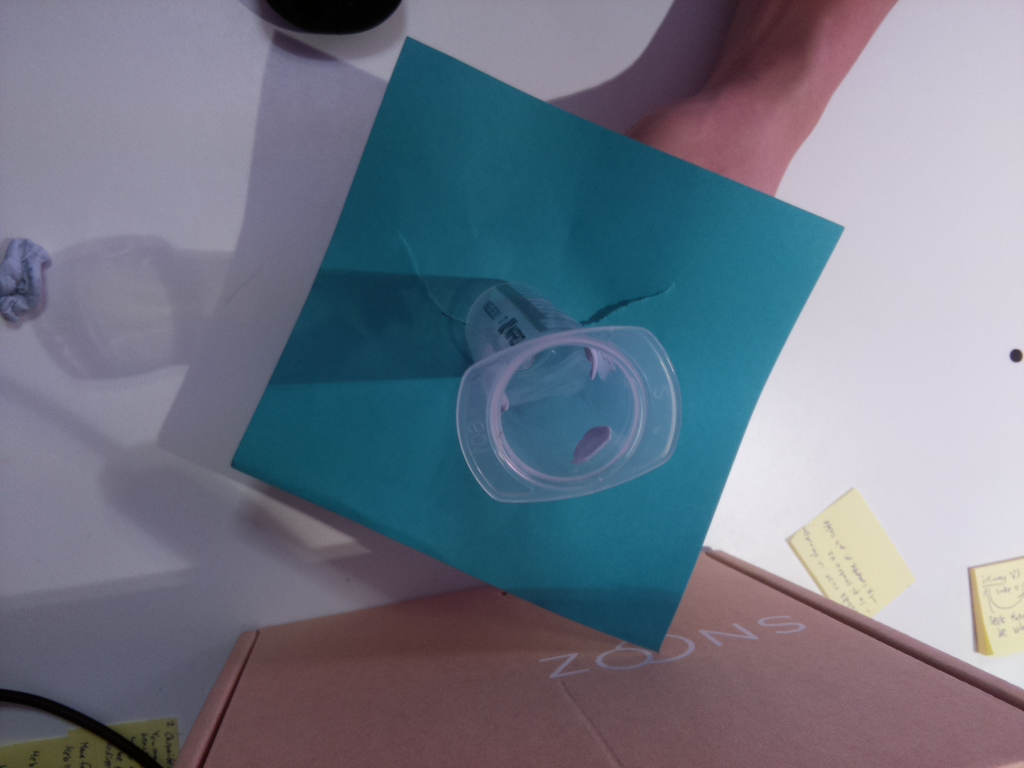dirty: (454, 324, 683, 504)
